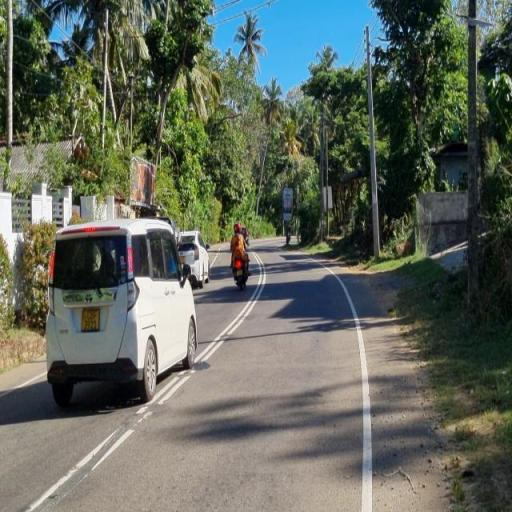double_white_line: (22, 252, 222, 510), (190, 251, 266, 363)
